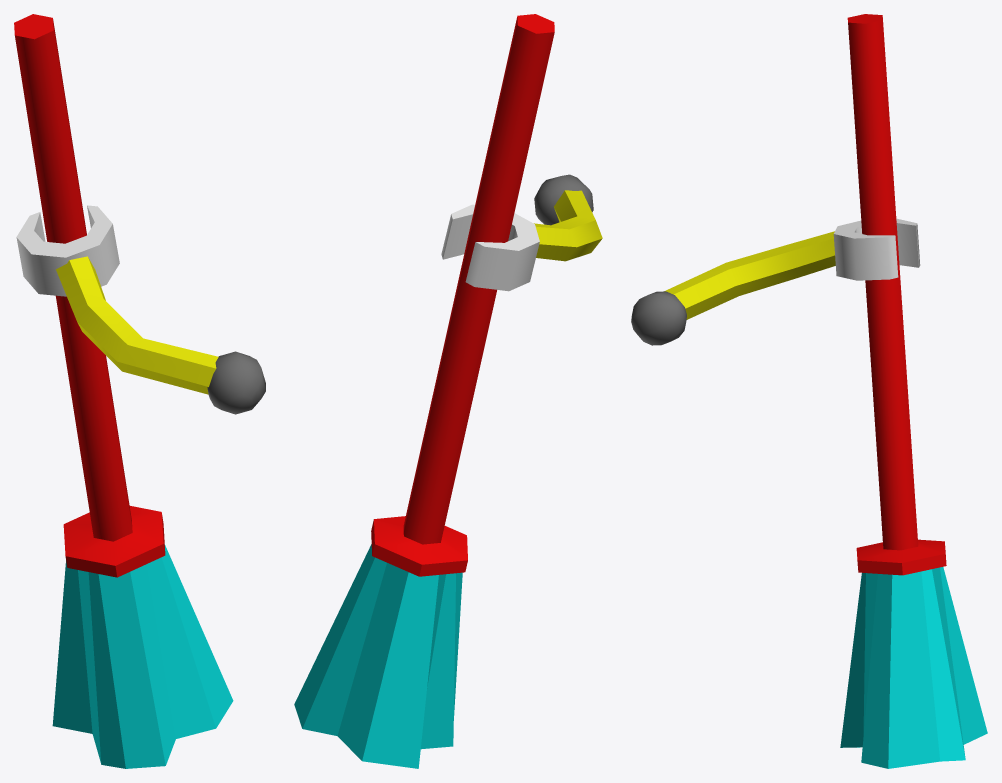
Rendered from Butler_Hand_L.fbx.
The picture shows the model from 3 angles, left to right: view 1: azimuth 30°, elevation 25°; view 2: azimuth 150°, elevation 25°; view 3: azimuth 270°, elevation 25°; orthographic projection. The views are drawn at different scales.
Visible parts, largest first — view 1: Butler_Hand_L; view 2: Butler_Hand_L; view 3: Butler_Hand_L.
Part boxes in pixels (box(x1,y1,x2,y2)): Butler_Hand_L: box(14, 14, 265, 768); Butler_Hand_L: box(294, 14, 602, 768); Butler_Hand_L: box(631, 14, 987, 768).
Bounding box in the file's own units: 64.66 × 205 × 96.43.
